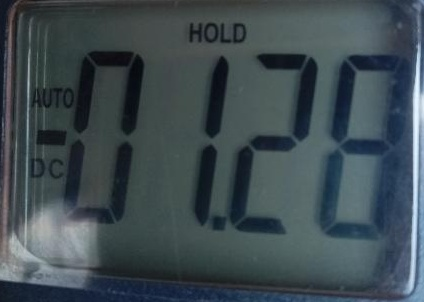ClampMeter_Display: (0, 0, 424, 302)
